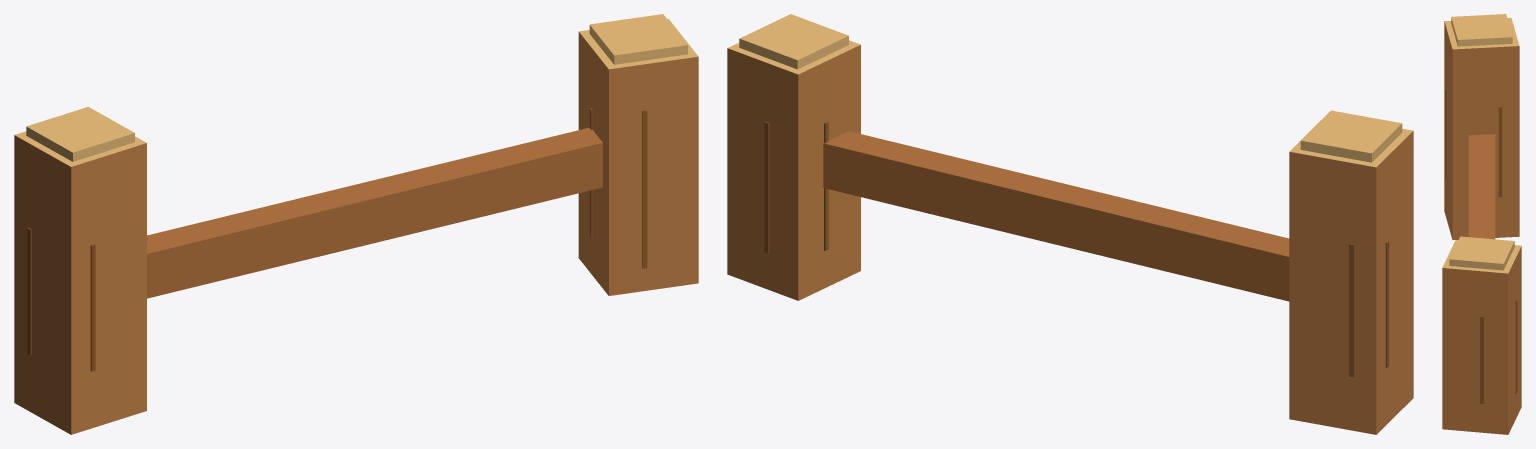
File: fence_segment.glb
The picture shows the model from 3 angles, left to right: view 1: azimuth 30°, elevation 25°; view 2: azimuth 150°, elevation 25°; view 3: azimuth 270°, elevation 25°; orthographic projection. The views are drawn at different scales.
Parts seen in each view (by area): view 1: fence_post (×2), fence_rail; view 2: fence_post (×2), fence_rail; view 3: fence_post (×2), fence_rail.
Part boxes in pixels (bbox=[...]): fence_post (×2): bbox=[14, 14, 698, 434]; fence_rail: bbox=[147, 127, 602, 298]; fence_post (×2): bbox=[727, 14, 1413, 434]; fence_rail: bbox=[823, 131, 1289, 301]; fence_post (×2): bbox=[1442, 14, 1521, 434]; fence_rail: bbox=[1468, 134, 1495, 239].
Bounding box in the file's own units: 1.99 × 0.807 × 0.2947.
